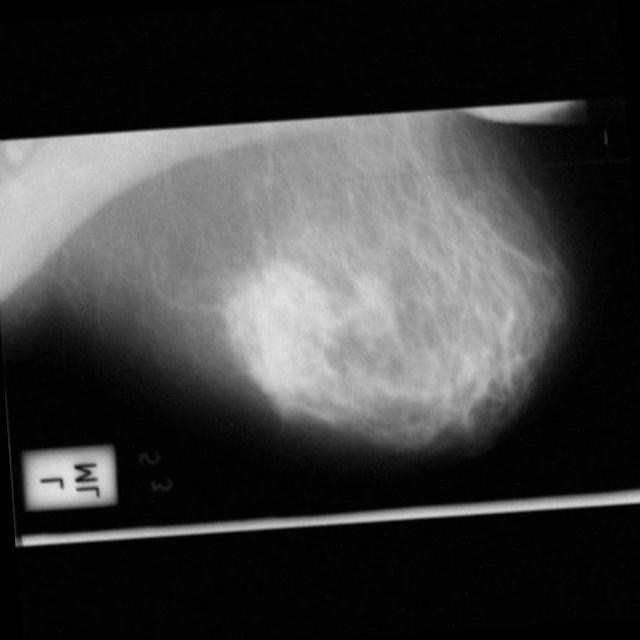ASYM: (210, 256, 353, 398)
